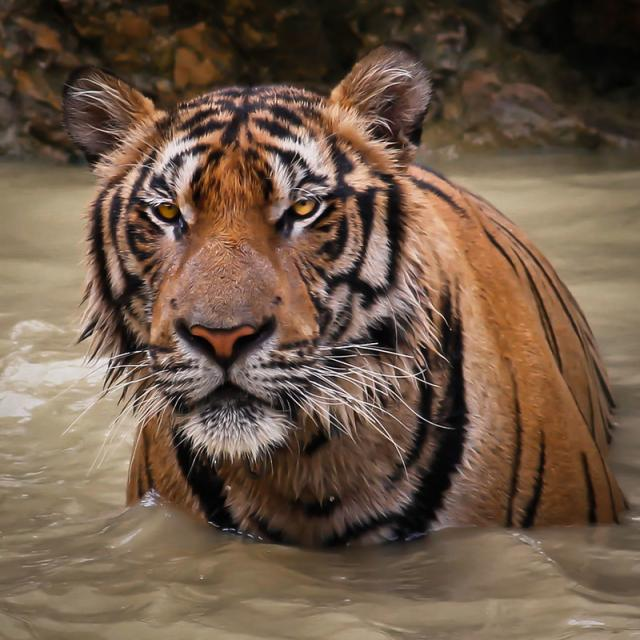Tiger: (59, 43, 632, 544)
